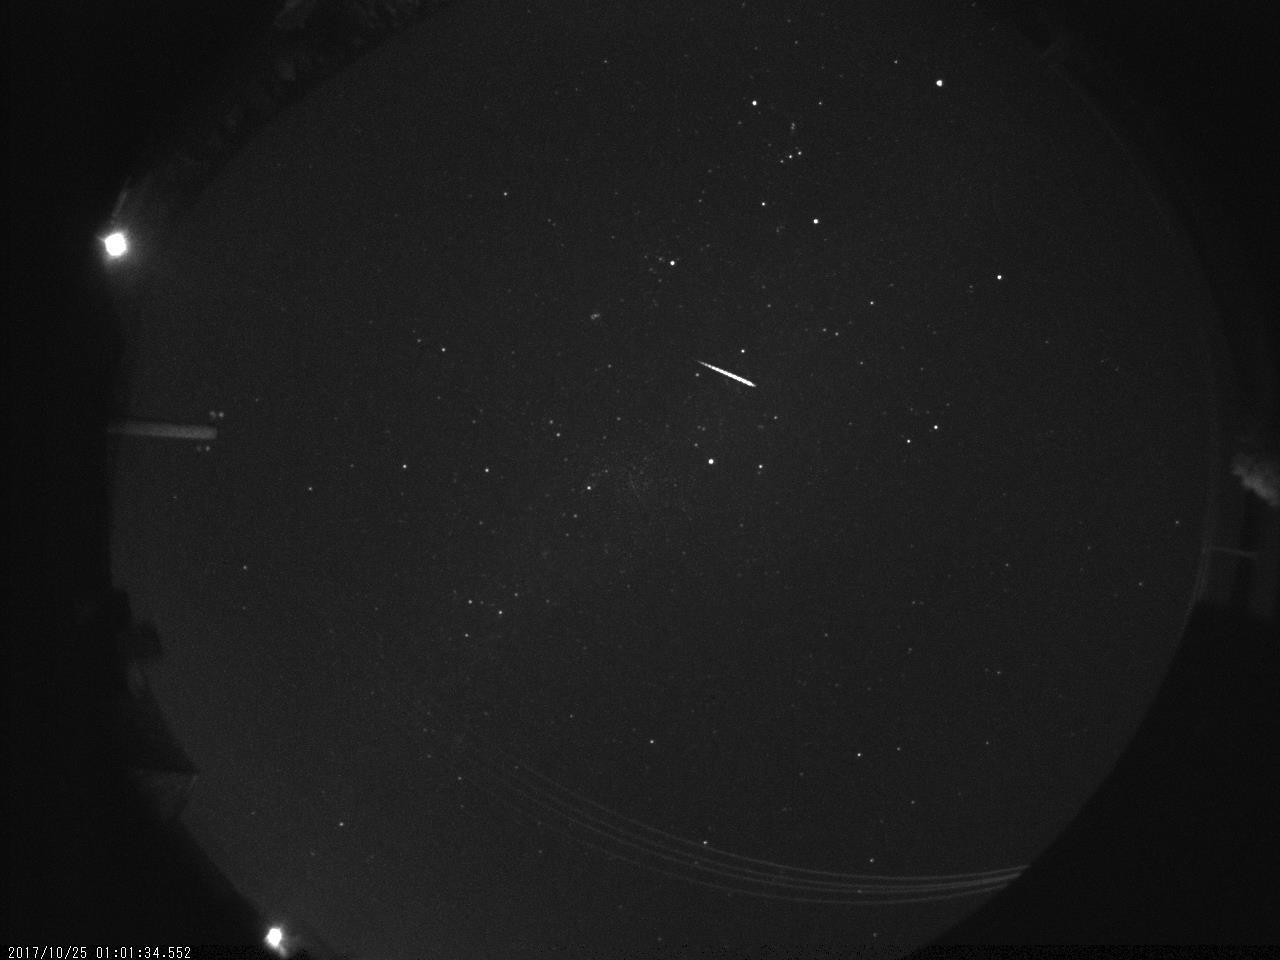Meteor: (694, 356, 758, 387)
